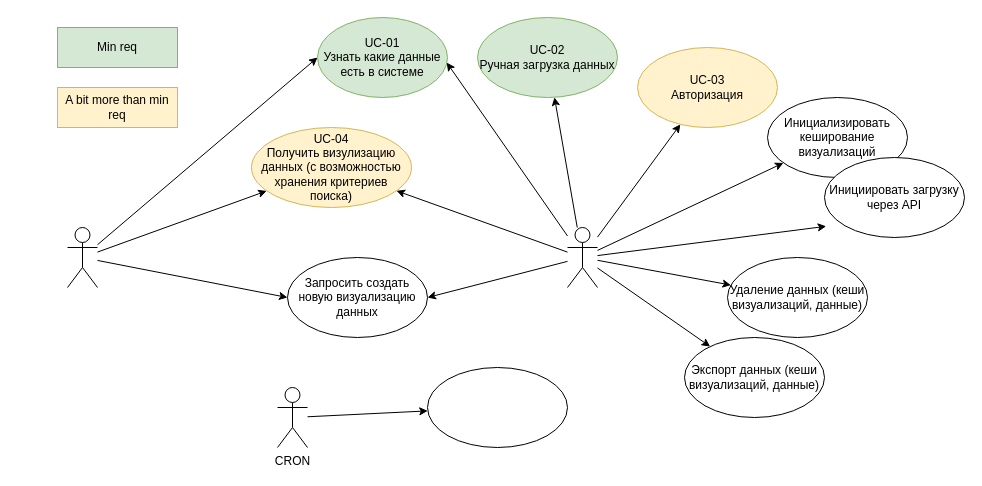
Some shapes in this 982 by 486 pixel diagram are drawn without their labels. The centre of each missing label's shape, as x and y in pixels:
User with Credentials: the point at 582,257
User without Credentials: the point at 82,257
Инициализация загрузки через API по таймауту: the point at 497,407
